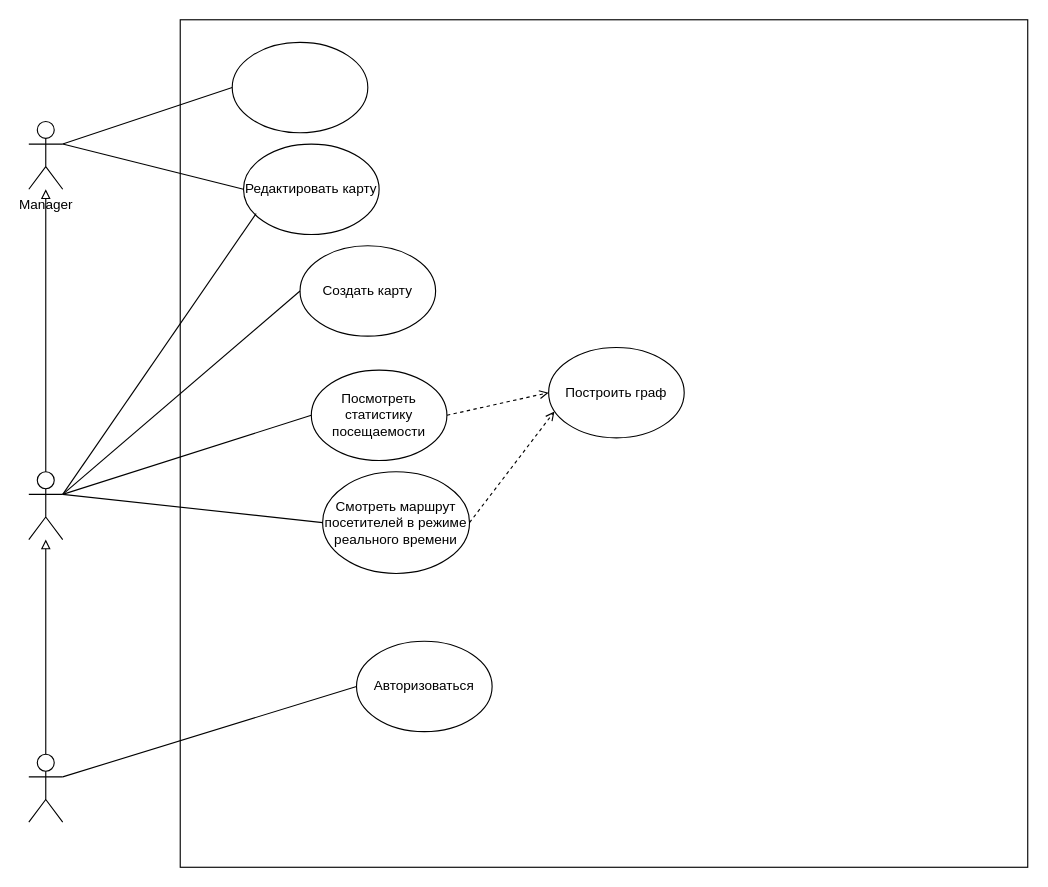
The diagram is 1048 pixels wide and 887 high, and some of its shapes have lost their labels. The shapes that lost their labels are listed below. From the top down, each one's centre as x and y in pixels, then its label:
the point at 299,87: Посмотреть статистику по пользователям
the point at 45,505: User
the point at 45,787: Unauth
